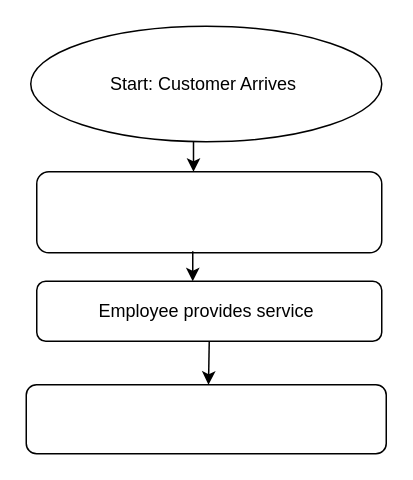
Image size: 413x480. Some labels were removed from this diagram. Here are the shapes that lost their labels. From the top down, the centre of each, then its label:
At point (208, 211): "Customer Joins Queue".
At point (205, 418): "End: Customer Leaves".
